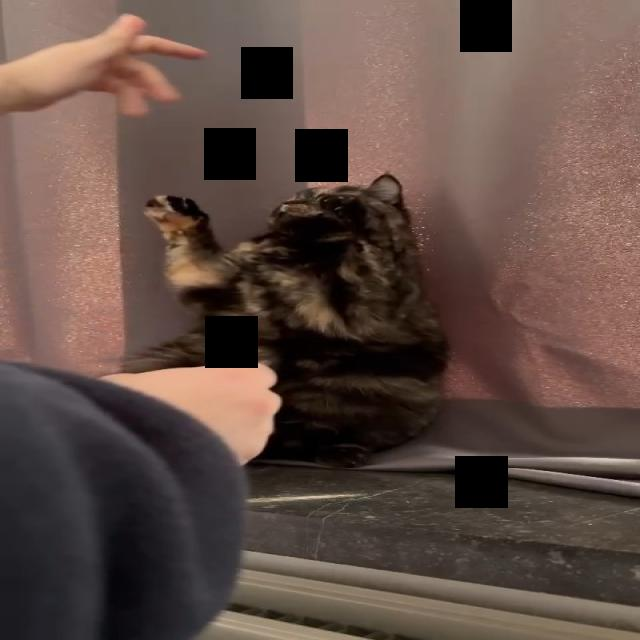authorized: (117, 171, 451, 469)
